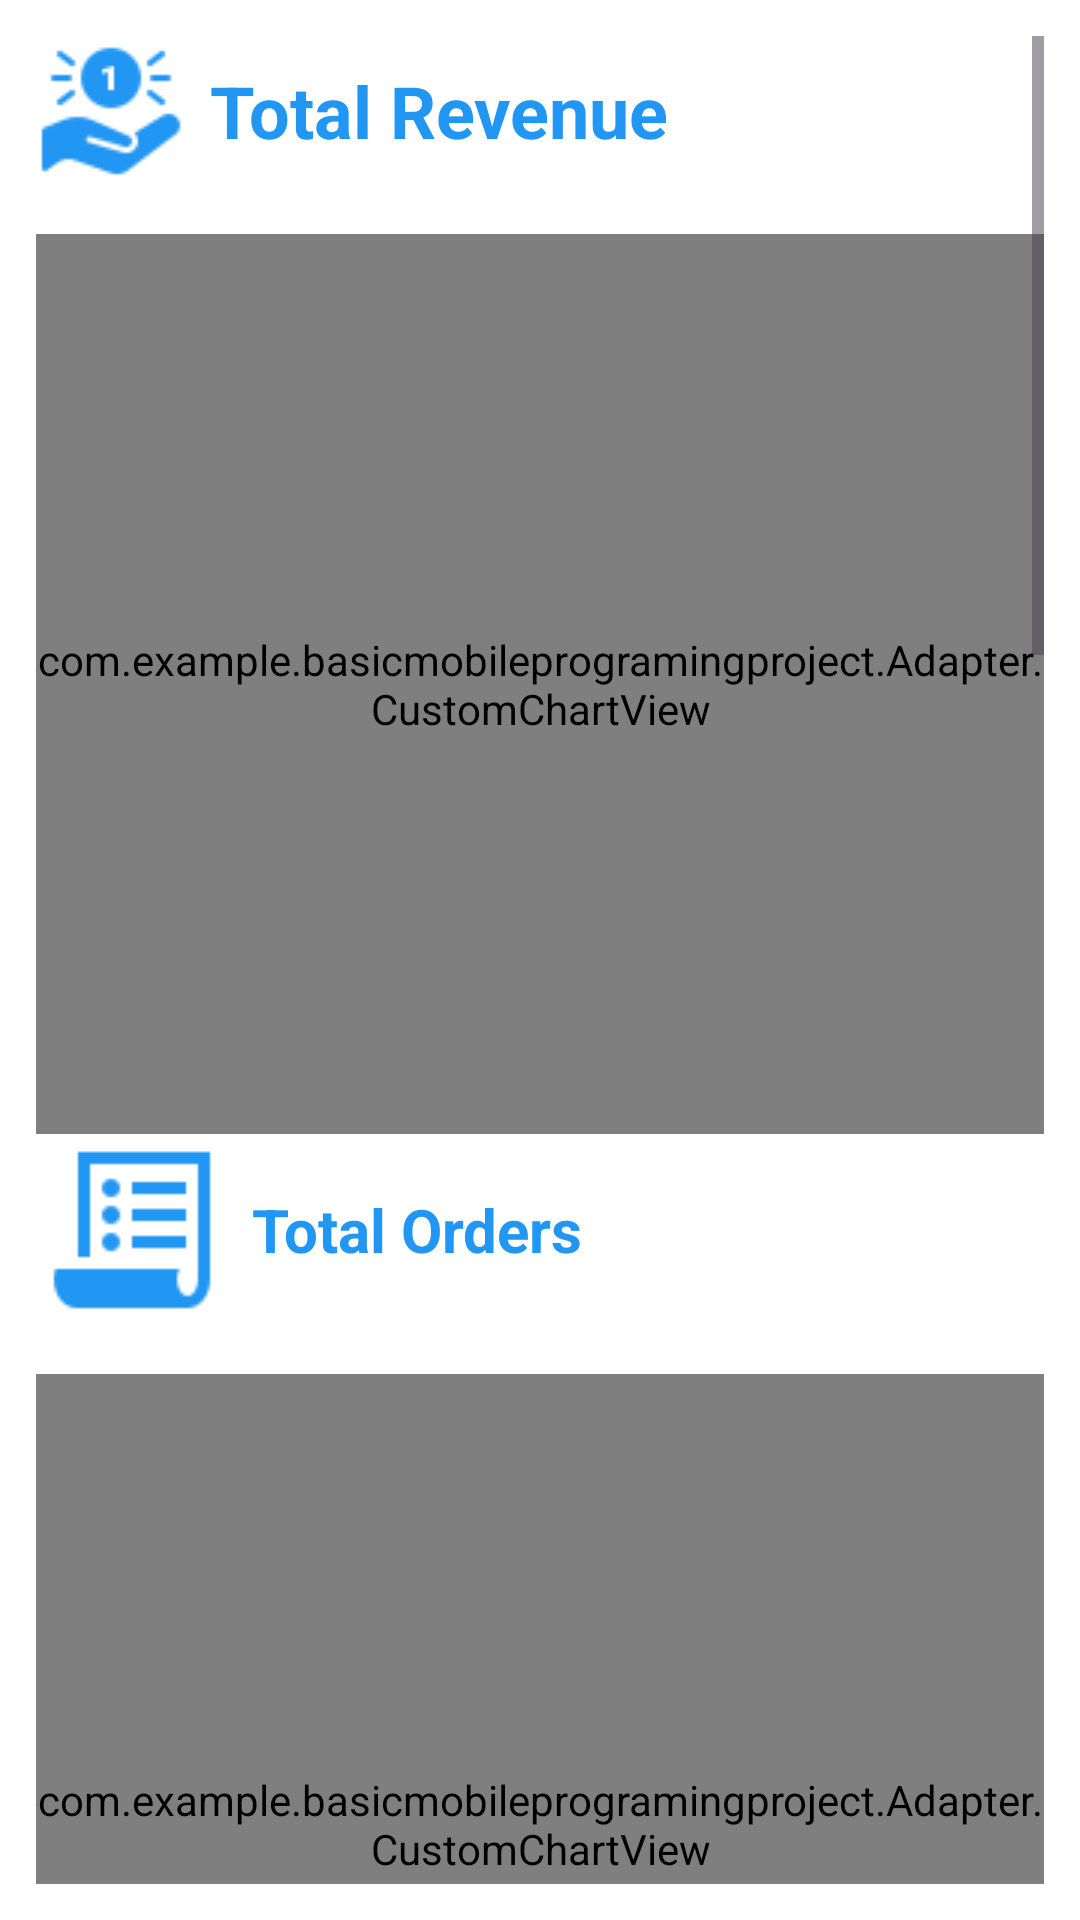

Screen size 1080 × 1920. Icon name, then its box in pixels as (x1, y1, x2, y2):
get revenue: (41, 47, 181, 175)
